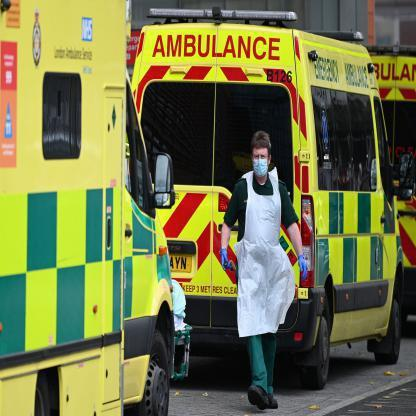Ambulance - v1 Ambulance last generate: (132, 33, 400, 364), (0, 0, 187, 406), (364, 51, 415, 328)
